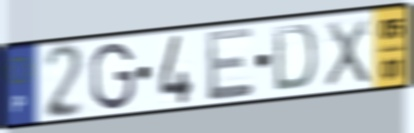2: (42, 39, 86, 126)
4: (157, 32, 195, 108)
D: (271, 22, 319, 94)
E: (204, 24, 256, 104)
G: (88, 40, 137, 113)
X: (323, 16, 372, 90)
